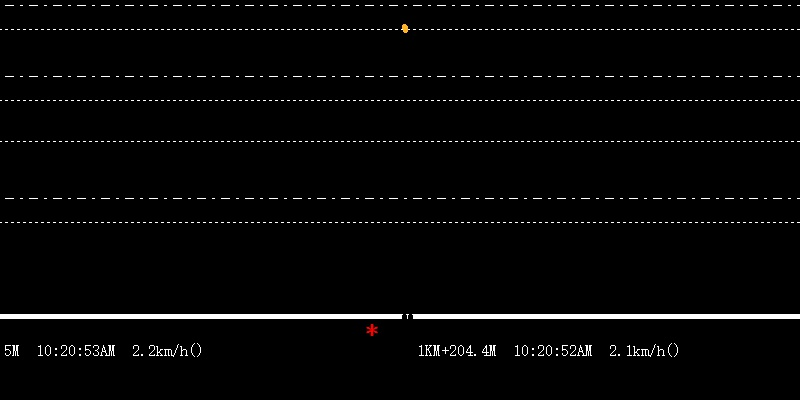face_1: (400, 20, 409, 35)
star: (364, 320, 380, 339)
